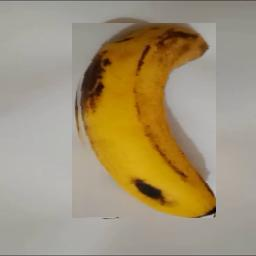Banana Semifresh: (72, 24, 216, 219)
